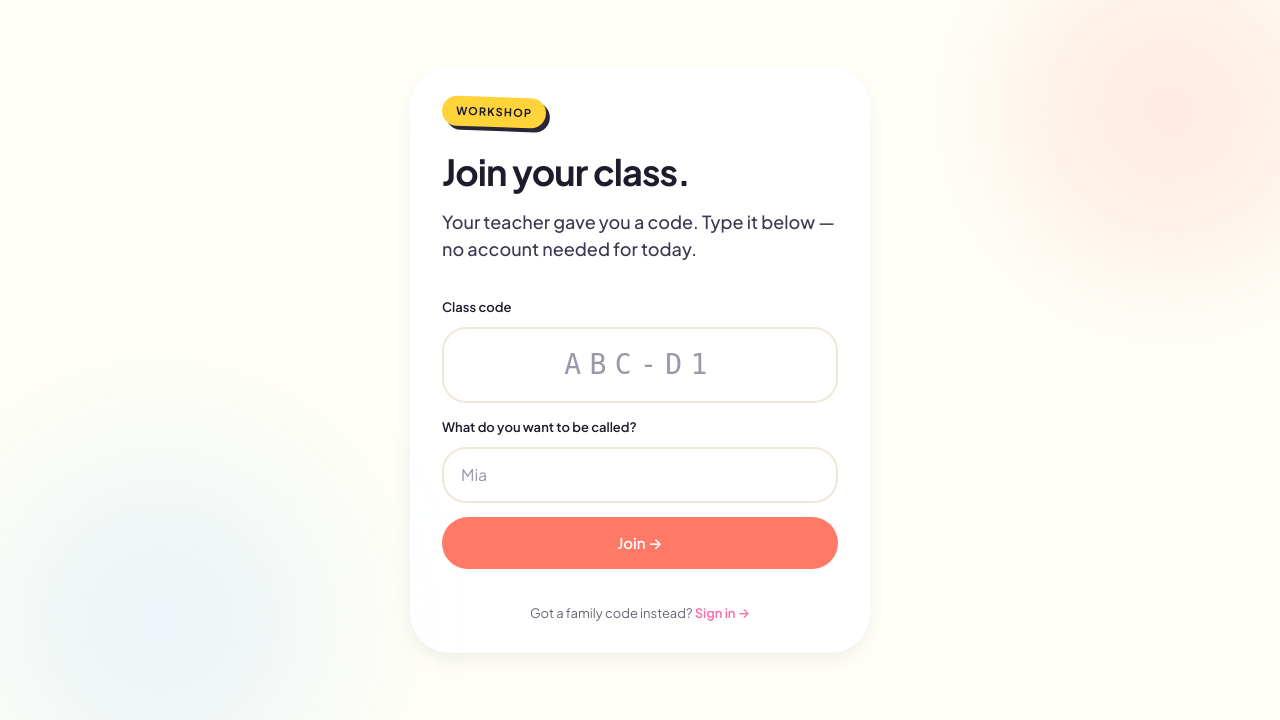
Scenario: ClassCodePage — name is required › blocks submit and shows an error when the name is empty
This screenshot has width=1280, height=720.
Type "ABCDEF" into the field with placeholder "ABC-D1".
click(640, 365); type("ABCDEF")  # box [442,327,838,403]
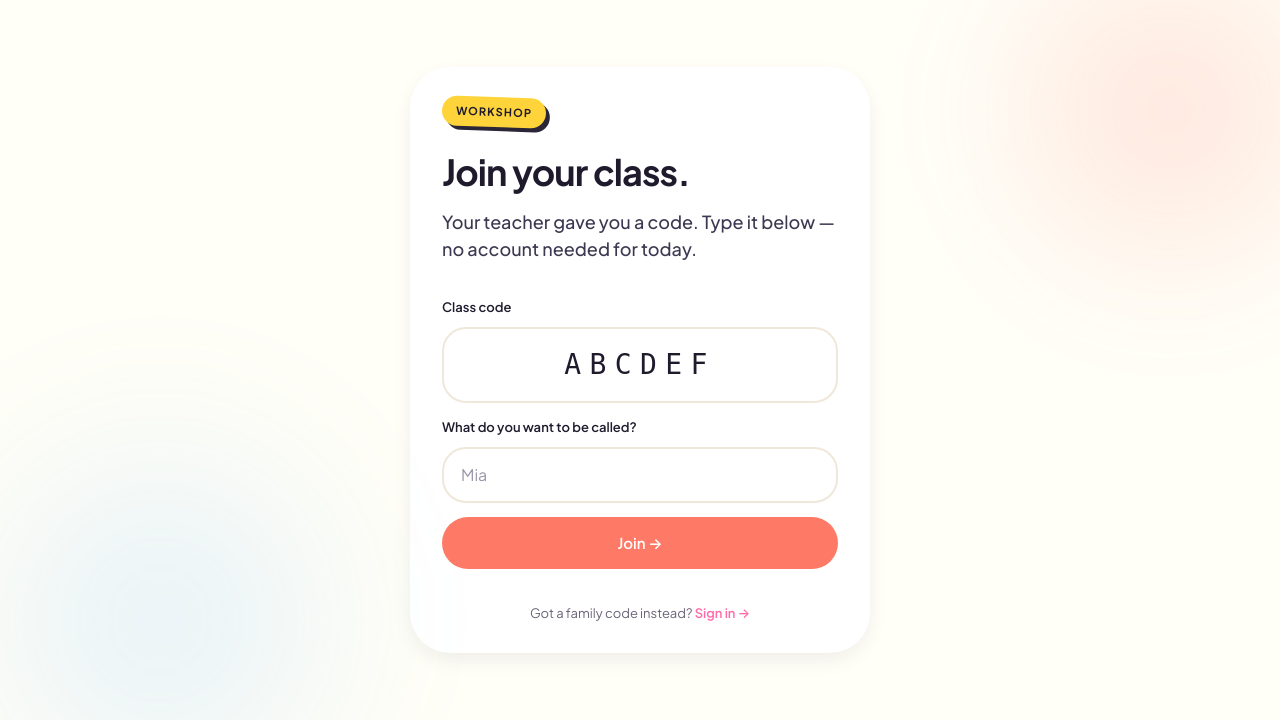
Click the button "Join →".
click(640, 543)  # box [442,517,838,570]
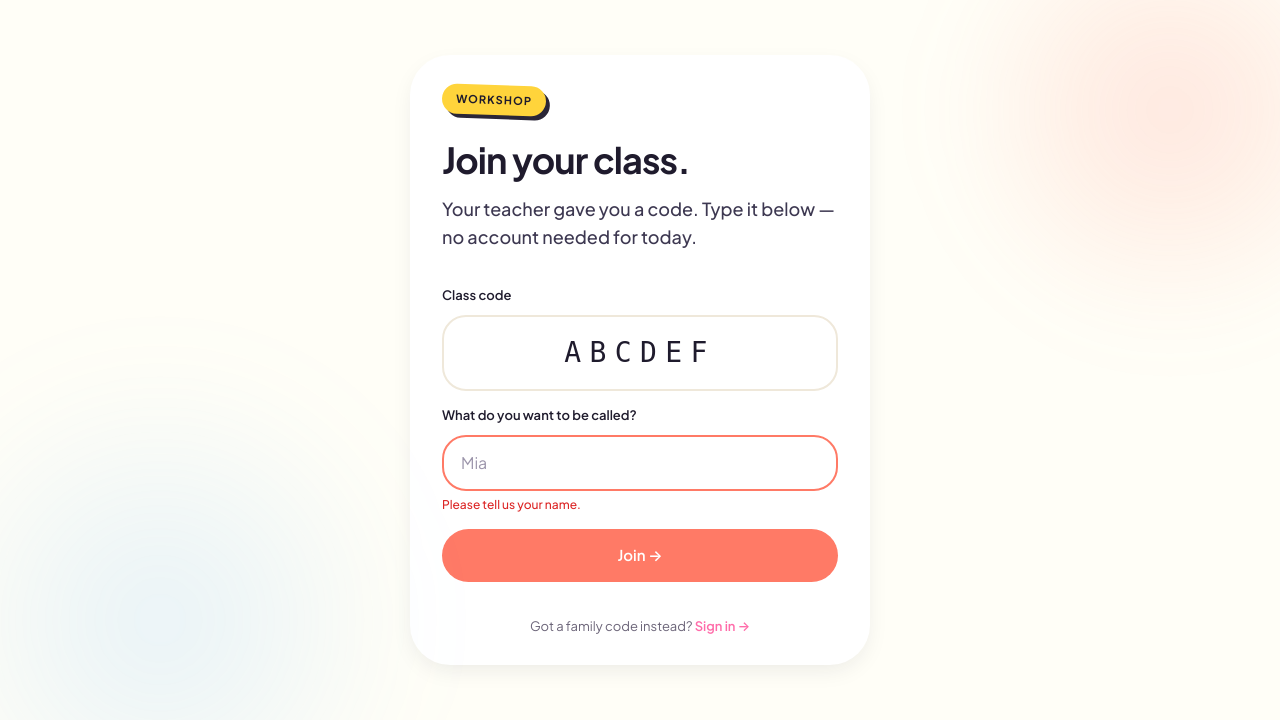
Expected: the text "Please tell us your name." is shown, [442,497,581,512]
